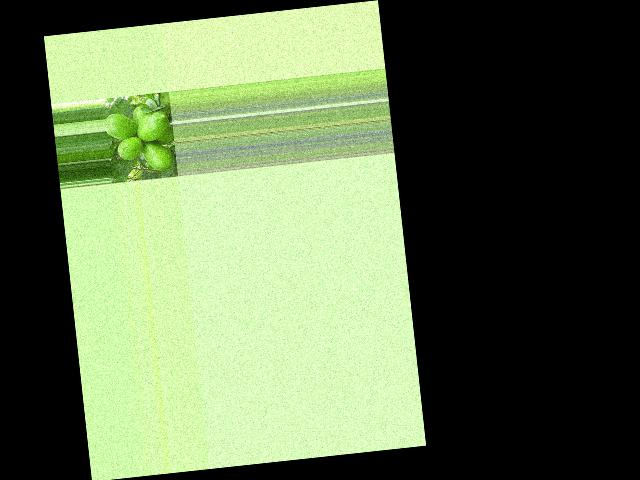lemon: (140, 138, 173, 173)
